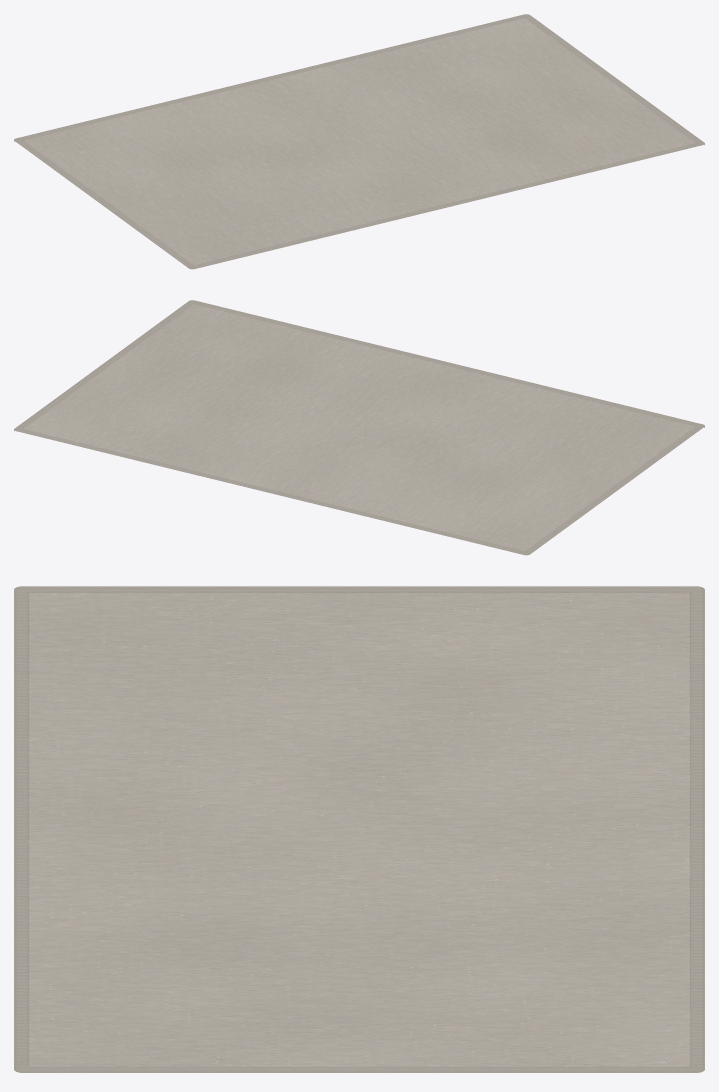
Rendered from beige_widehall_r90.glb.
3 renders of one model, top to bottom at view 1: azimuth 30°, elevation 25°; view 2: azimuth 150°, elevation 25°; view 3: azimuth 270°, elevation 25°, orthographic. The views are drawn at different scales.
Visible parts, largest first — view 1: reliv_beige_widehall_r90; view 2: reliv_beige_widehall_r90; view 3: reliv_beige_widehall_r90.
Part boxes in pixels (x1,y1,x2,y2): reliv_beige_widehall_r90: [14, 14, 704, 269]; reliv_beige_widehall_r90: [14, 300, 704, 555]; reliv_beige_widehall_r90: [14, 586, 704, 1072].
Bounding box in the file's own units: 2 × 0.009 × 1.2.
Materials: 2 (1 with a texture image).
